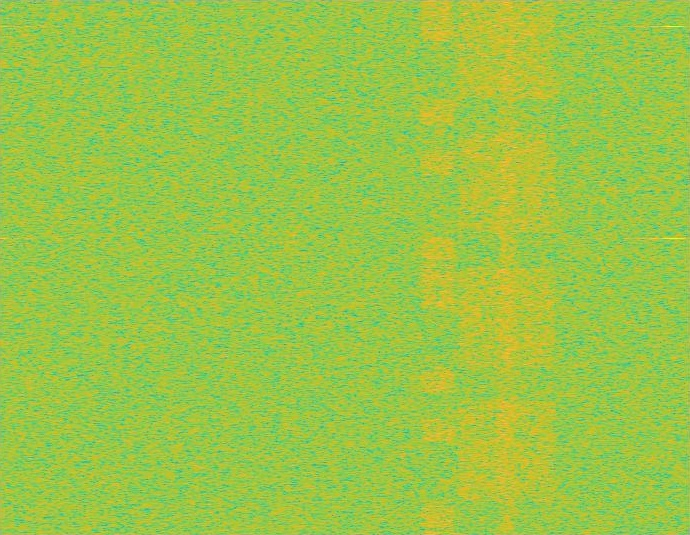5G: (455, 0, 559, 534)
DSSS: (496, 0, 519, 534)
LTE: (421, 0, 455, 534)
Radar: (667, 0, 681, 534)
